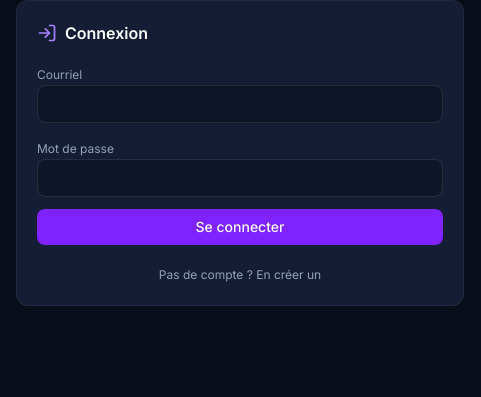
Test: AuthPanel › shows the sign-in form and toggles to sign-up
Check: the heading "Connexion" is shown, box [65,21,148,45]
Click the button "Pas de compte ? En créer un" at (240, 275), box [37,267,443,283]
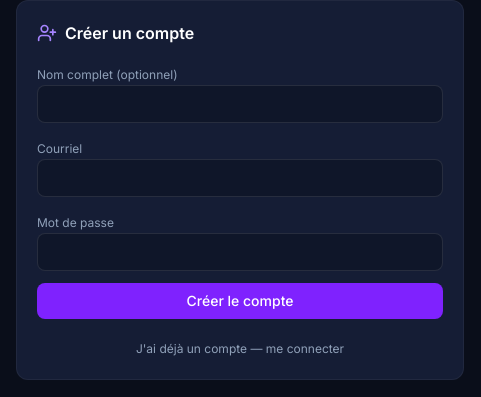
Check: the heading "Créer un compte" is shown, box [65,21,194,45]
